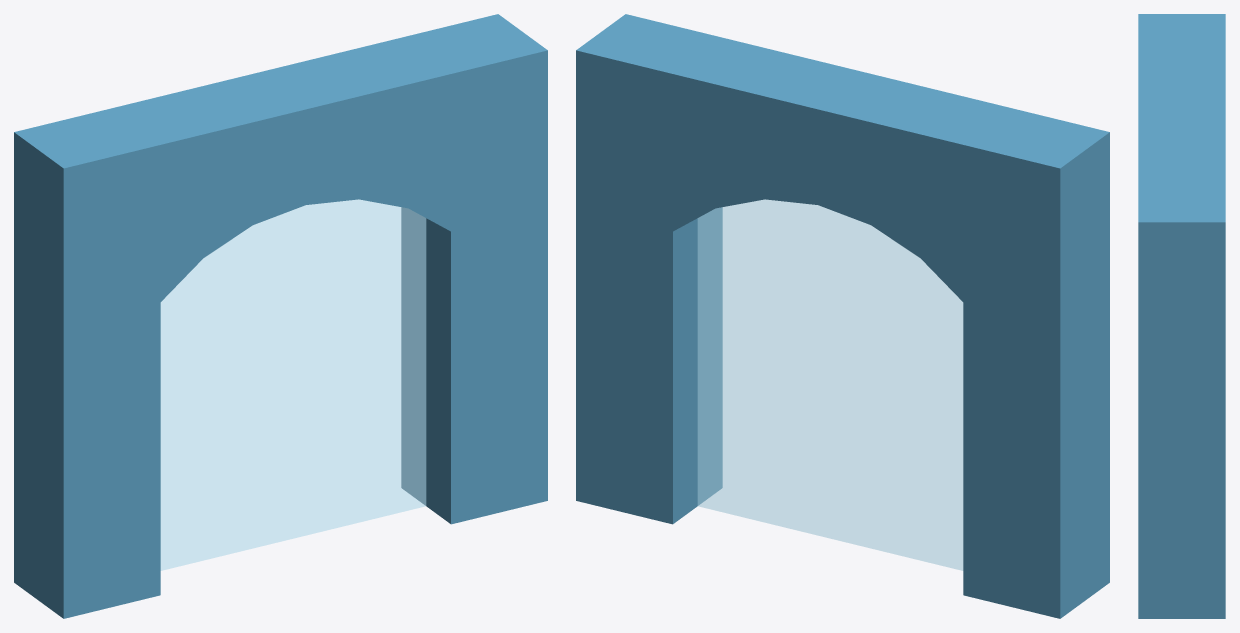
File: ice_portal.glb
3 renders of one model, left to right at view 1: azimuth 30°, elevation 25°; view 2: azimuth 150°, elevation 25°; view 3: azimuth 270°, elevation 25°, orthographic. The views are drawn at different scales.
Visible parts, largest first — view 1: IcePortal; view 2: IcePortal; view 3: IcePortal.
Part boxes in pixels (box(x1,y1,x2,y2)): IcePortal: box(14, 14, 547, 618); IcePortal: box(576, 14, 1109, 618); IcePortal: box(1138, 14, 1225, 618).
Size of what is drawn, in the model's own units: 4.5 by 4 by 0.8.
Materials: 2 (2 with a texture image).
